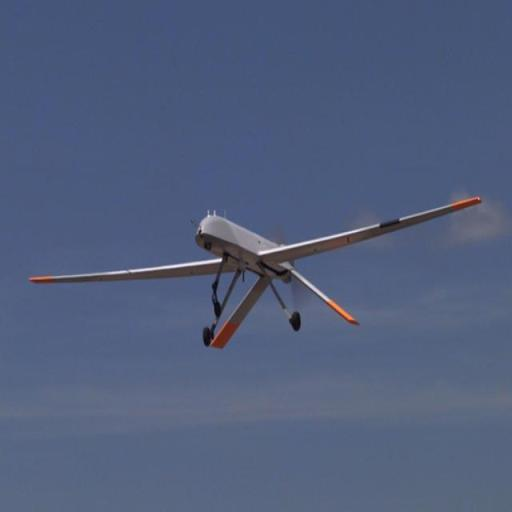uav: (19, 188, 493, 358)
